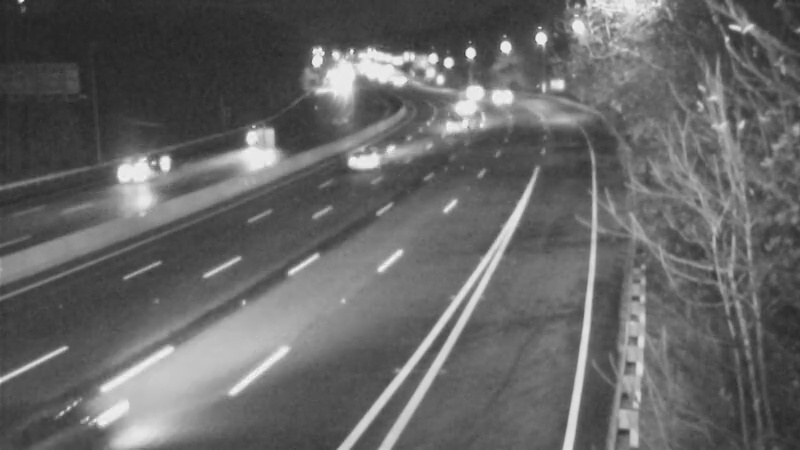vehicle: (11, 353, 121, 450), (334, 115, 414, 195), (103, 129, 183, 209), (434, 62, 484, 112), (468, 69, 518, 119), (440, 78, 490, 128), (427, 98, 477, 148), (227, 117, 277, 167)
